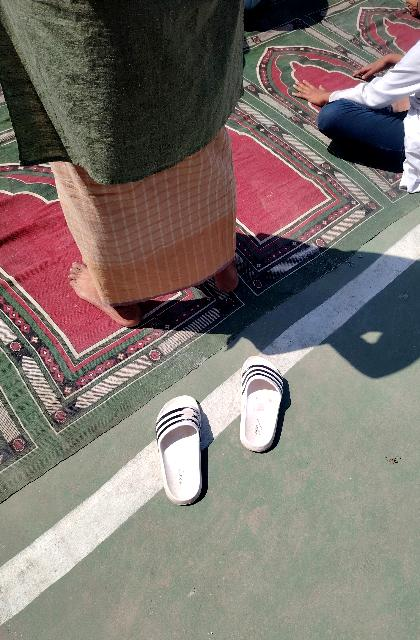sandal: (140, 394, 218, 505), (239, 350, 295, 457)
